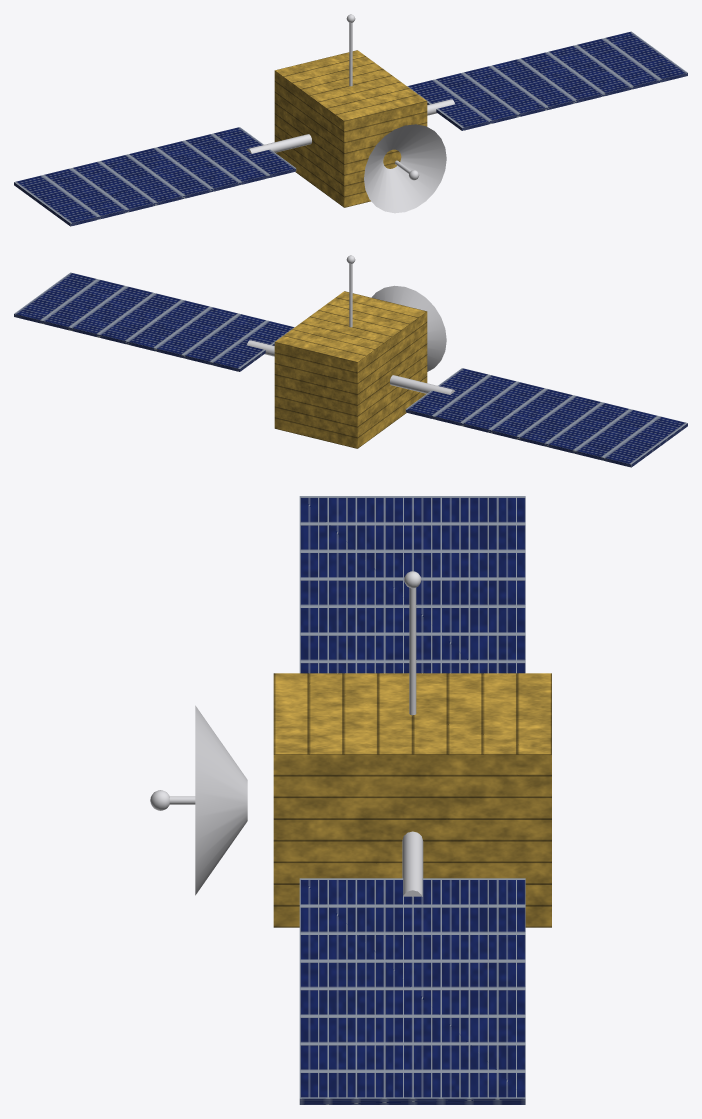
File: satellite.glb
The picture shows the model from 3 angles, top to bottom: view 1: azimuth 30°, elevation 25°; view 2: azimuth 150°, elevation 25°; view 3: azimuth 270°, elevation 25°; orthographic projection. The views are drawn at different scales.
Visible parts, largest first — view 1: Satellite; view 2: Satellite; view 3: Satellite.
Boxes of the visible parts, x1=… form: Satellite: x1=14, y1=14, x2=687, y2=226; Satellite: x1=14, y1=255, x2=687, y2=467; Satellite: x1=150, y1=496, x2=551, y2=1104.
Bounding box in the file's own units: 8.2 × 2 × 2.31.
Materials: 3 (2 with a texture image).
